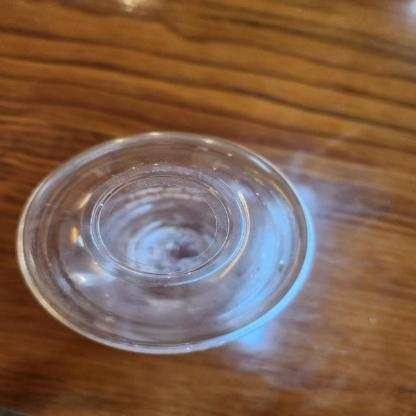Others: (17, 132, 316, 358)
